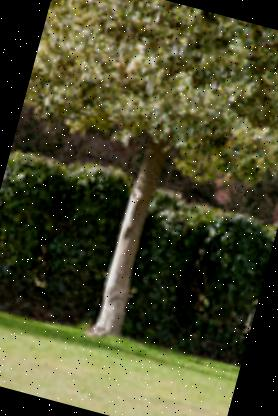tree: (0, 0, 278, 379)
